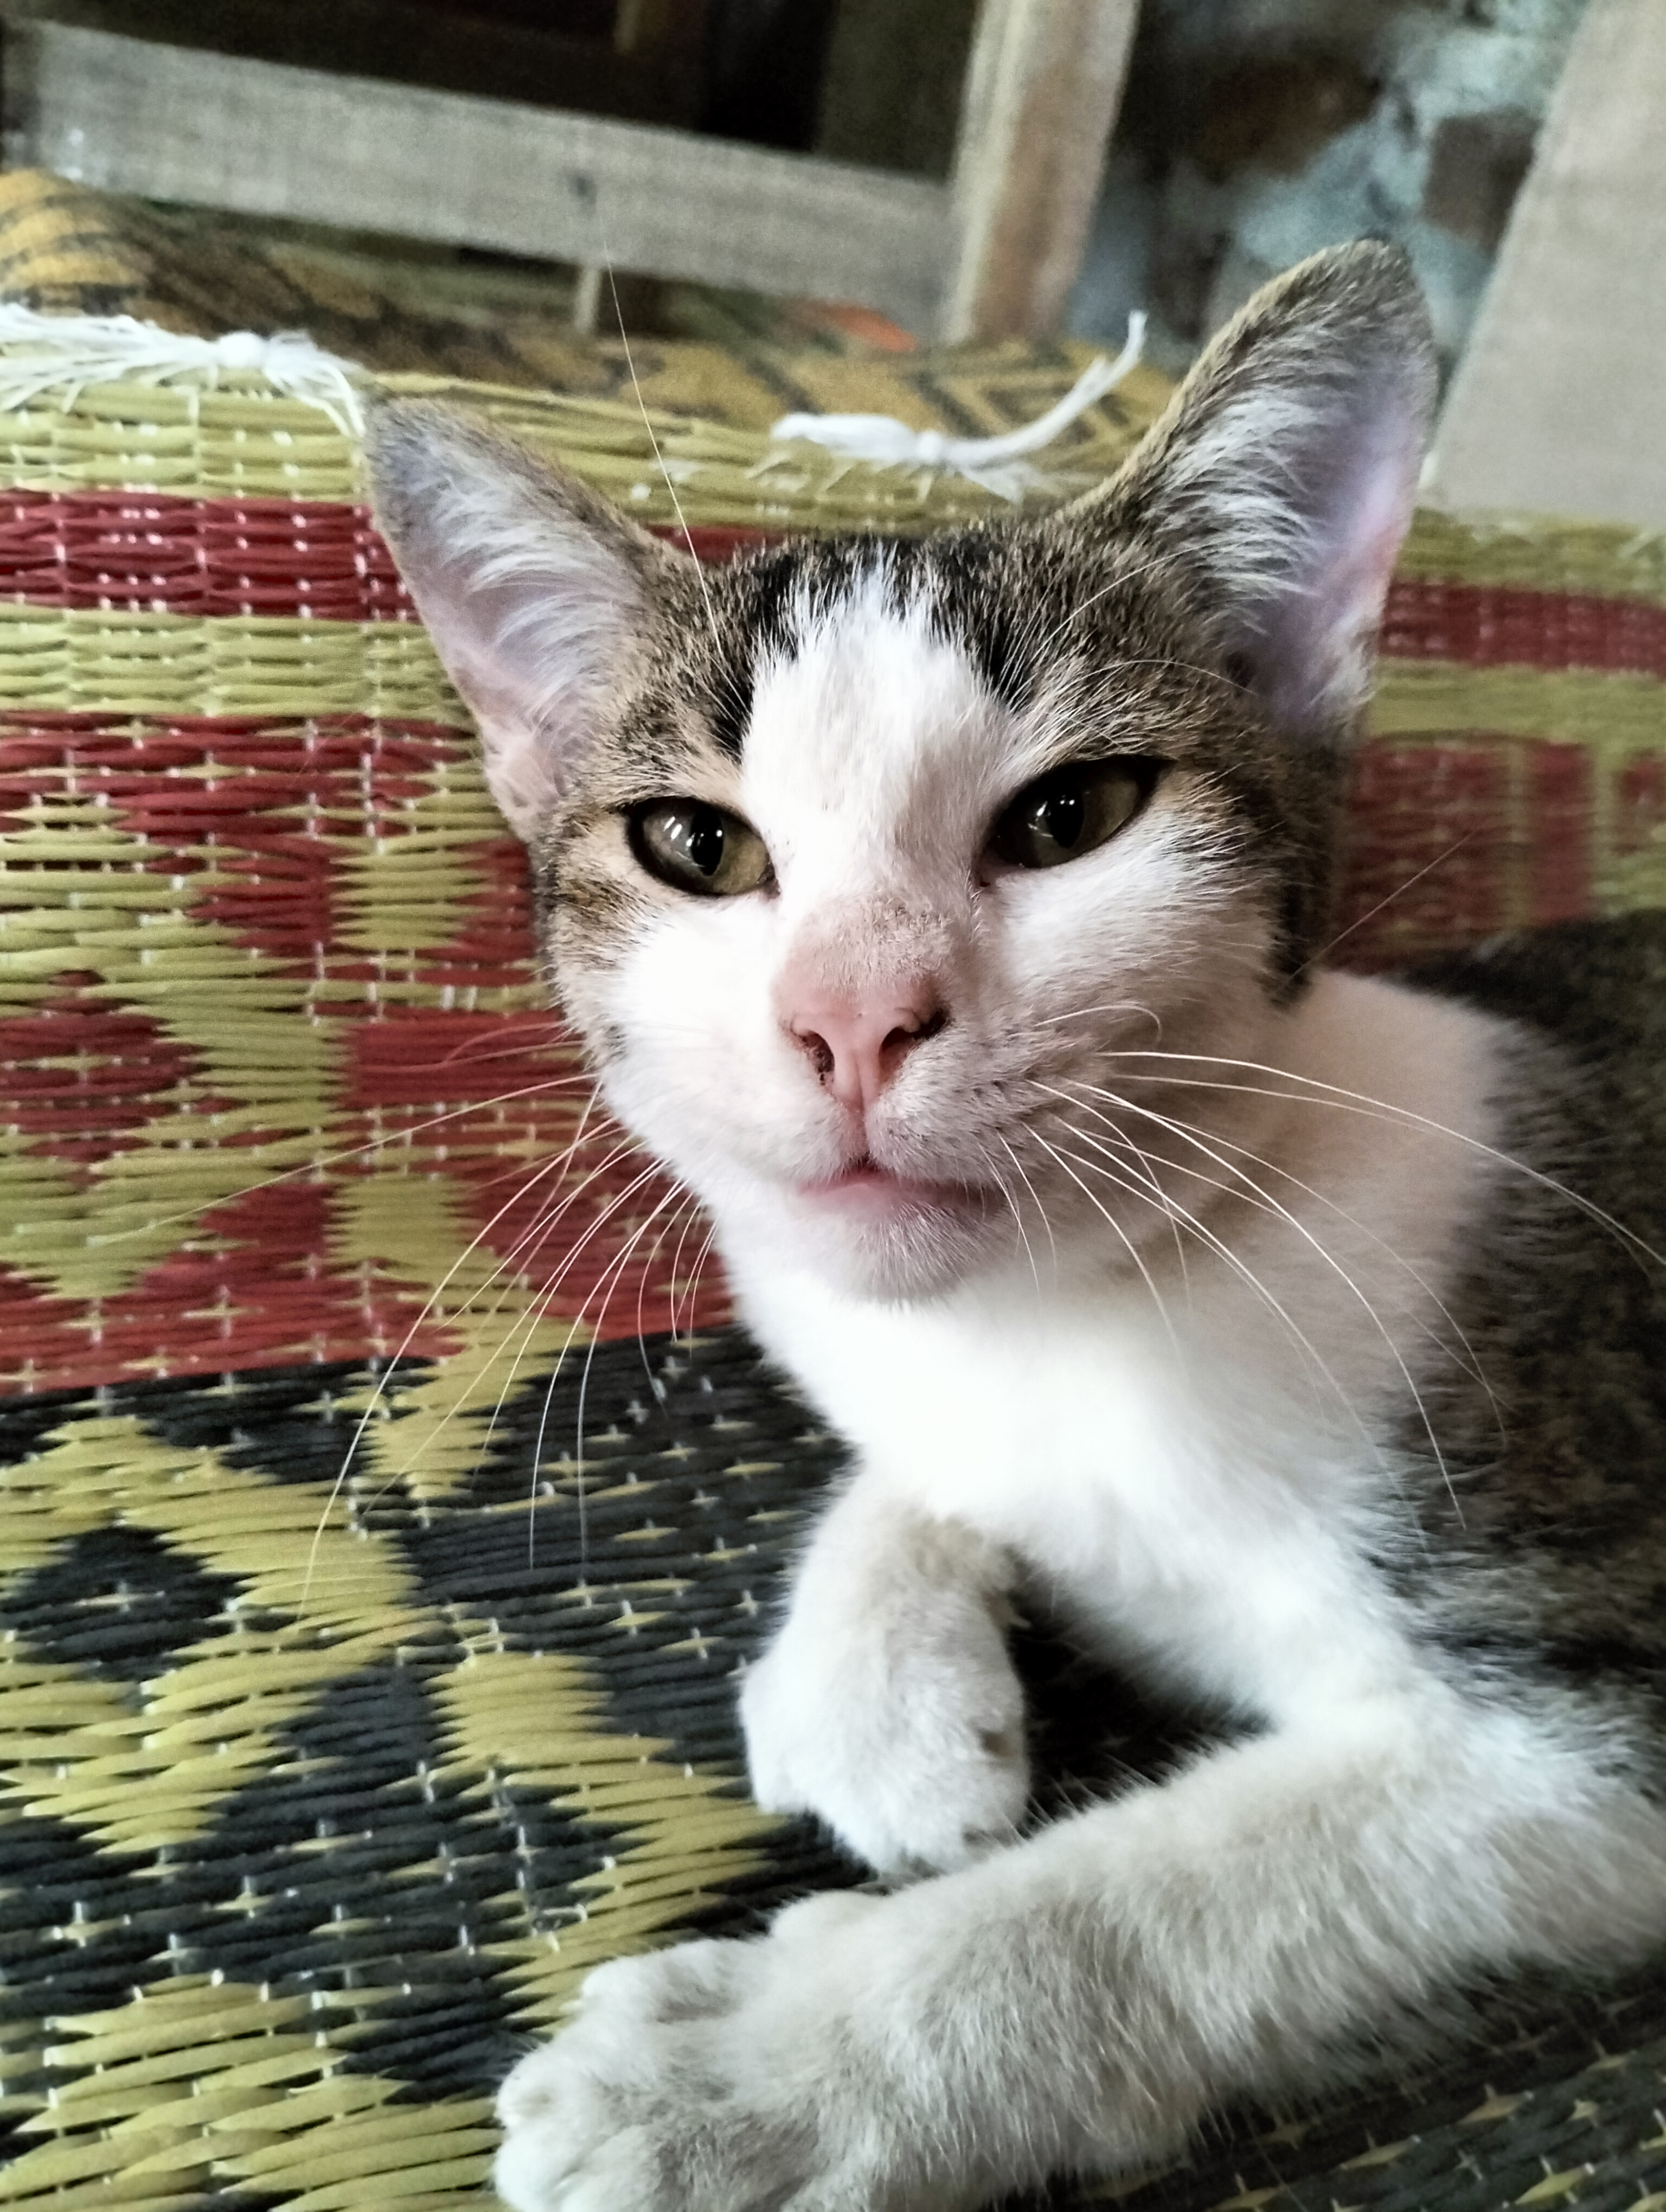miki: (316, 210, 1520, 1368)
